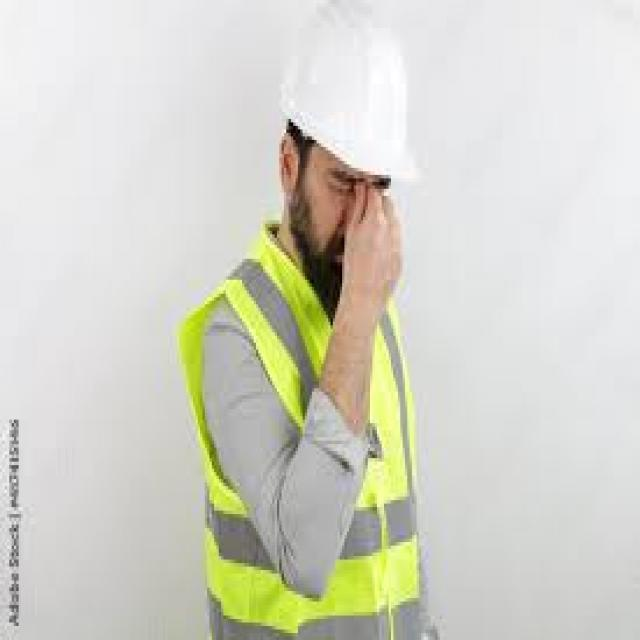Reflective-Jacket: (165, 255, 426, 626)
Safety-Helmet: (270, 10, 419, 189)
